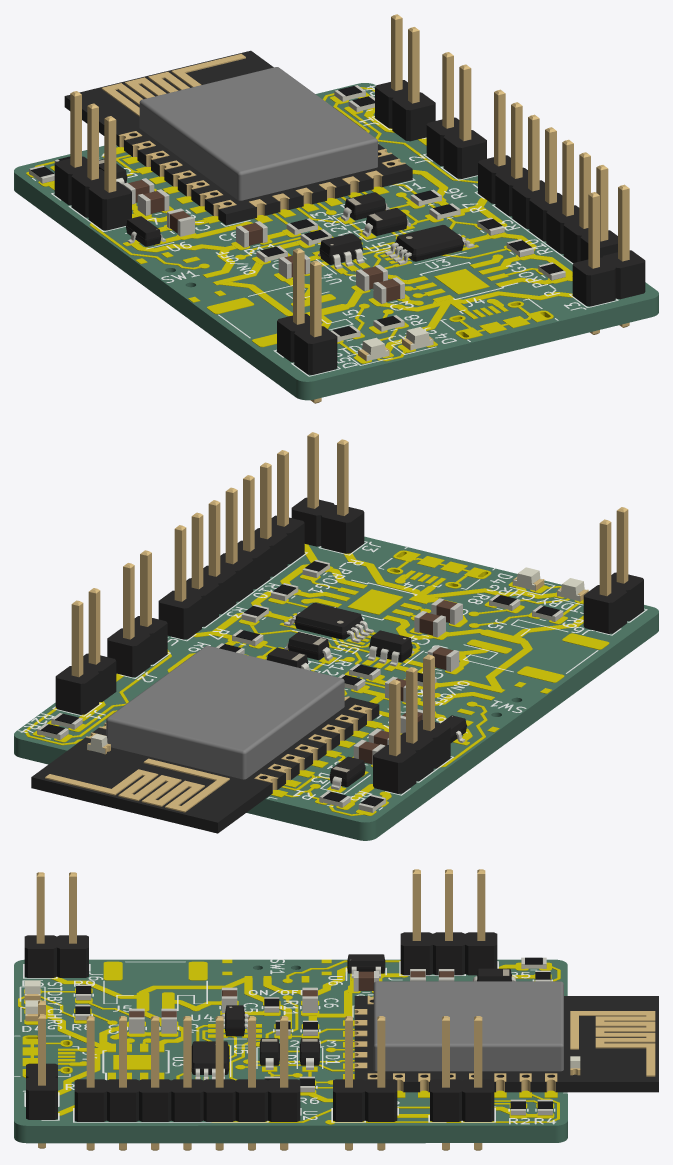
The model's file is iot-postbox.gltf.
3 renders of one model, top to bottom at view 1: azimuth 30°, elevation 25°; view 2: azimuth 150°, elevation 25°; view 3: azimuth 270°, elevation 25°, orthographic. The views are drawn at different scales.
Visible parts, largest first — view 1: iot-postbox_PCB, ESP-12E001, PinHeader_1x07_P2.54mm_Vertical, ESP-12E, PinHeader_1x03_P2.54mm_Vertical, PinHeader_1x02_P2.54mm_Vertical, PinHeader_1x02_P2.54mm_Vertical001, PinHeader_1x02_P2.54mm_Vertical002, PinHeader_1x02_P2.54mm_Vertical003, iot-postbox_copper022, ESP-12E034, TSSOP-8_4.4x3mm_P0.65mm (+16 smaller); view 2: iot-postbox_PCB, ESP-12E001, PinHeader_1x07_P2.54mm_Vertical, ESP-12E, PinHeader_1x03_P2.54mm_Vertical, PinHeader_1x02_P2.54mm_Vertical, PinHeader_1x02_P2.54mm_Vertical003, PinHeader_1x02_P2.54mm_Vertical001, PinHeader_1x02_P2.54mm_Vertical002, ESP-12E034, iot-postbox_copper022, iot-postbox_copper019 (+15 smaller); view 3: iot-postbox_PCB, ESP-12E001, PinHeader_1x07_P2.54mm_Vertical, ESP-12E, PinHeader_1x03_P2.54mm_Vertical, PinHeader_1x02_P2.54mm_Vertical002, PinHeader_1x02_P2.54mm_Vertical003, PinHeader_1x02_P2.54mm_Vertical001, ESP-12E034, PinHeader_1x02_P2.54mm_Vertical, iot-postbox_copper019, iot-postbox_copper022 (+16 smaller).
Part boxes in pixels (bbox=[...]): iot-postbox_PCB: bbox=[14, 83, 658, 400]; ESP-12E001: bbox=[139, 67, 377, 200]; PinHeader_1x07_P2.54mm_Vertical: bbox=[478, 89, 617, 263]; ESP-12E: bbox=[64, 50, 412, 225]; PinHeader_1x03_P2.54mm_Vertical: bbox=[54, 91, 131, 230]; PinHeader_1x02_P2.54mm_Vertical: bbox=[572, 184, 645, 334]; PinHeader_1x02_P2.54mm_Vertical001: bbox=[277, 248, 337, 403]; PinHeader_1x02_P2.54mm_Vertical002: bbox=[426, 52, 486, 178]; PinHeader_1x02_P2.54mm_Vertical003: bbox=[375, 14, 435, 141]; iot-postbox_copper022: bbox=[38, 170, 572, 311]; ESP-12E034: bbox=[101, 53, 245, 116]; TSSOP-8_4.4x3mm_P0.65mm: bbox=[384, 225, 474, 264]; iot-postbox_PCB: bbox=[14, 536, 658, 840]; ESP-12E001: bbox=[106, 645, 344, 779]; PinHeader_1x07_P2.54mm_Vertical: bbox=[158, 450, 304, 639]; ESP-12E: bbox=[31, 697, 379, 833]; PinHeader_1x03_P2.54mm_Vertical: bbox=[373, 654, 450, 793]; PinHeader_1x02_P2.54mm_Vertical: bbox=[291, 432, 364, 553]; PinHeader_1x02_P2.54mm_Vertical003: bbox=[55, 588, 116, 714]; PinHeader_1x02_P2.54mm_Vertical001: bbox=[583, 507, 643, 633]; PinHeader_1x02_P2.54mm_Vertical002: bbox=[107, 550, 167, 677]; ESP-12E034: bbox=[45, 758, 229, 812]; iot-postbox_copper022: bbox=[167, 544, 422, 806]; iot-postbox_copper019: bbox=[366, 615, 583, 692]; iot-postbox_PCB: bbox=[14, 959, 567, 1143]; ESP-12E001: bbox=[373, 981, 563, 1071]; PinHeader_1x07_P2.54mm_Vertical: bbox=[74, 1016, 300, 1150]; ESP-12E: bbox=[354, 996, 658, 1092]; PinHeader_1x03_P2.54mm_Vertical: bbox=[400, 869, 497, 975]; PinHeader_1x02_P2.54mm_Vertical002: bbox=[333, 1016, 397, 1150]; PinHeader_1x02_P2.54mm_Vertical003: bbox=[430, 1016, 494, 1150]; PinHeader_1x02_P2.54mm_Vertical001: bbox=[24, 872, 88, 977]; ESP-12E034: bbox=[570, 1011, 655, 1076]; PinHeader_1x02_P2.54mm_Vertical: bbox=[26, 1000, 57, 1148]; iot-postbox_copper019: bbox=[50, 976, 291, 1052]; iot-postbox_copper022: bbox=[58, 962, 528, 1115].
Size of the model in its own units: 0.031 by 0.0115 by 0.0508.
